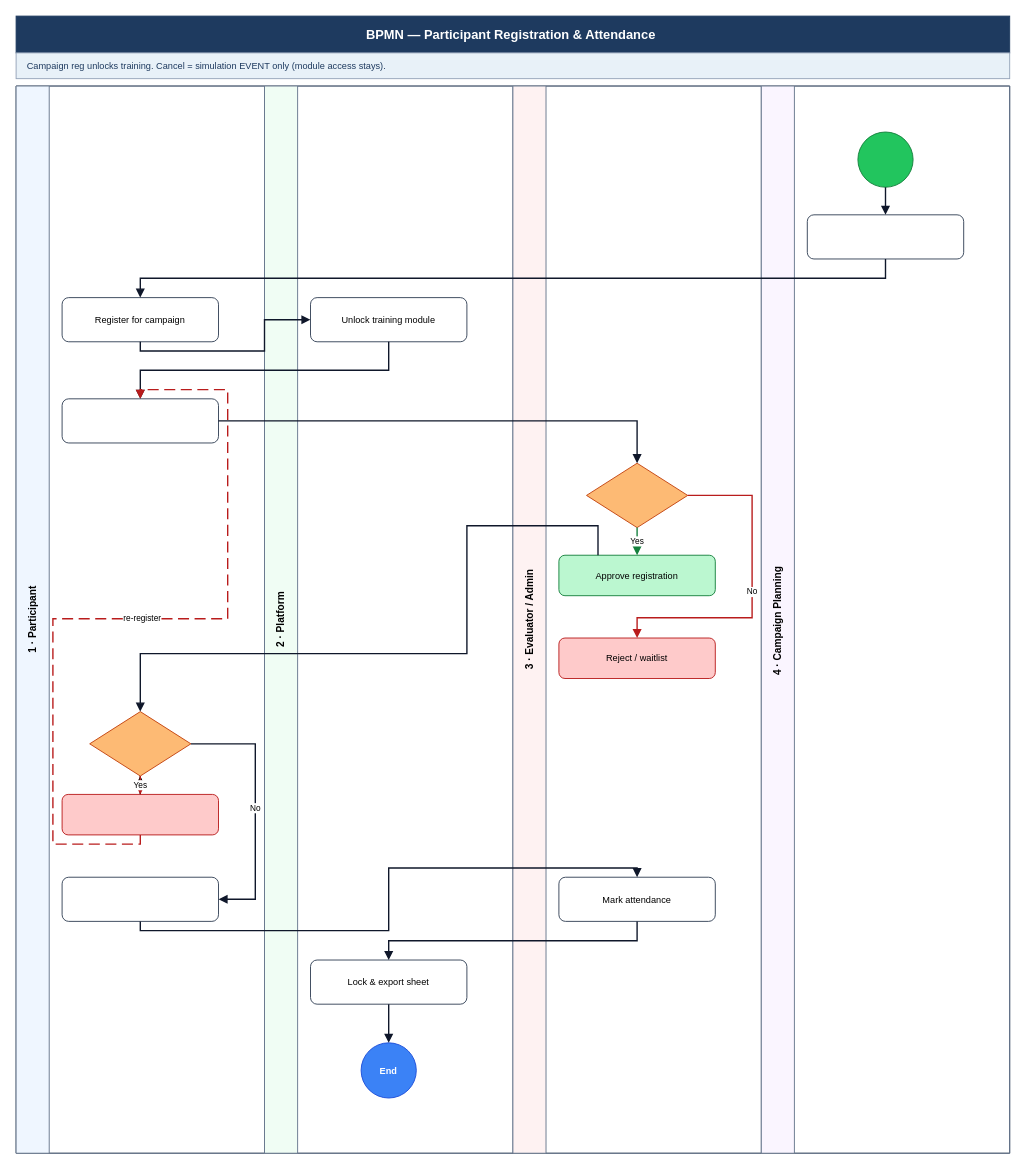
Some shapes in this 1026 by 1169 pixel diagram are drawn without their labels. Here are the shapes that lost their labels. From the top down, the centre of each, then its label:
At (x=885, y=159): "Start".
At (x=885, y=236): "Open campaign window".
At (x=139, y=420): "Register for event".
At (x=637, y=495): "Approve seat?".
At (x=140, y=743): "Cancel event?".
At (x=139, y=814): "Cancel event reg only".
At (x=139, y=898): "Attend / QR check-in".
